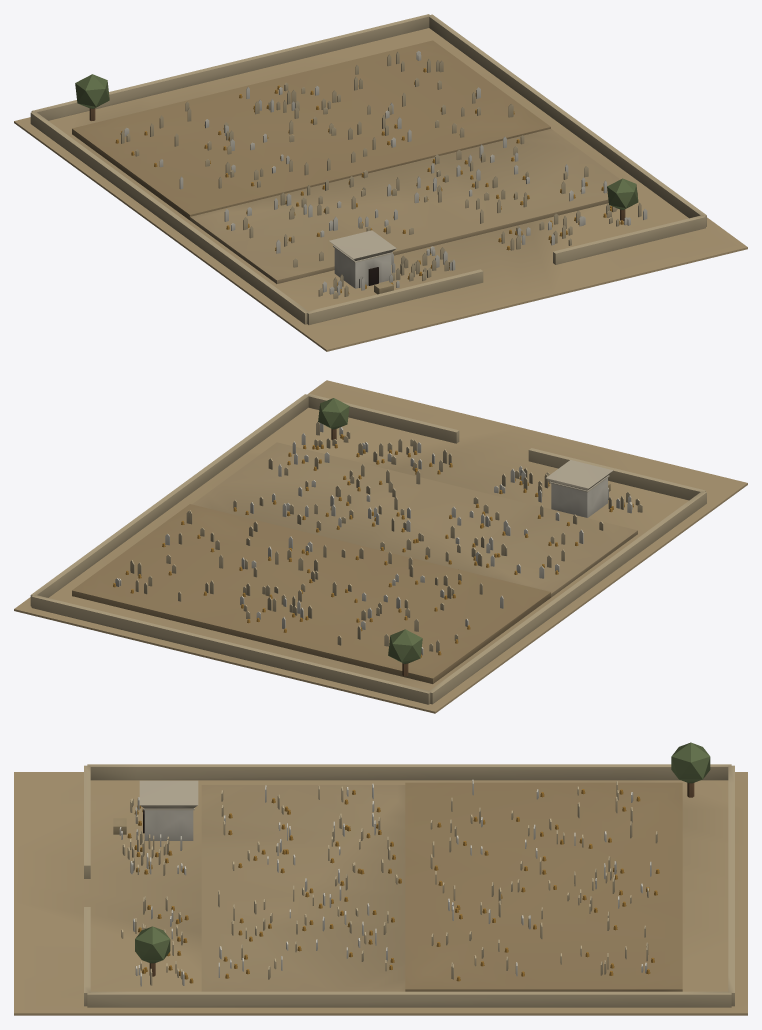
File: tophet.glb
The picture shows the model from 3 angles, top to bottom: view 1: azimuth 30°, elevation 25°; view 2: azimuth 150°, elevation 25°; view 3: azimuth 270°, elevation 25°; orthographic projection. The views are drawn at different scales.
Visible parts, largest first — view 1: p0_precinct, p1_stelae, p2_shrine; view 2: p0_precinct, p1_stelae, p2_shrine; view 3: p0_precinct, p1_stelae, p2_shrine.
Part boxes in pixels (box(x1,y1,x2,y2)): p0_precinct: box(14, 14, 747, 351); p1_stelae: box(115, 51, 647, 298); p2_shrine: box(75, 74, 638, 294); p0_precinct: box(14, 380, 747, 713); p1_stelae: box(113, 422, 642, 657); p2_shrine: box(318, 398, 613, 676); p0_precinct: box(14, 764, 747, 1015); p1_stelae: box(119, 779, 659, 986); p2_shrine: box(113, 742, 710, 976).
Bounding box in the file's own units: 70 × 8.5 × 90.
